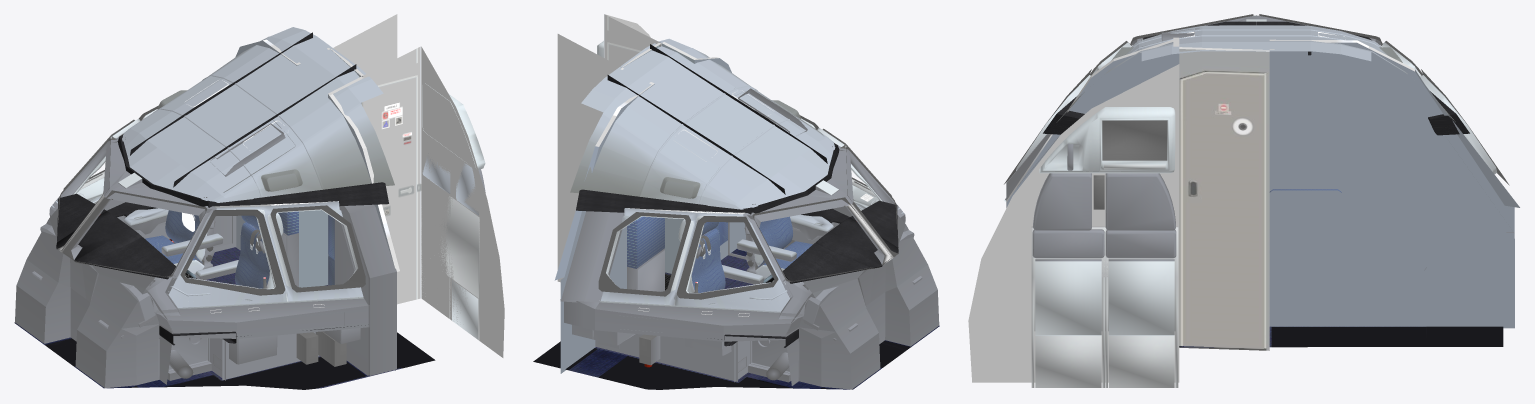
File: a320-cockpit.glb
The picture shows the model from 3 angles, left to right: view 1: azimuth 30°, elevation 25°; view 2: azimuth 150°, elevation 25°; view 3: azimuth 270°, elevation 25°; orthographic projection. The views are drawn at different scales.
Parts seen in each view (by area): view 1: 111VU; view 2: 111VU; view 3: 111VU.
Part boxes in pixels (bbox=[...]): 111VU: bbox=[14, 14, 504, 389]; 111VU: bbox=[533, 14, 939, 389]; 111VU: bbox=[968, 14, 1519, 387].
Size of what is drawn, in the model's own units: 3.16 by 2.27 by 3.48.
Materials: 54 (48 with a texture image).
